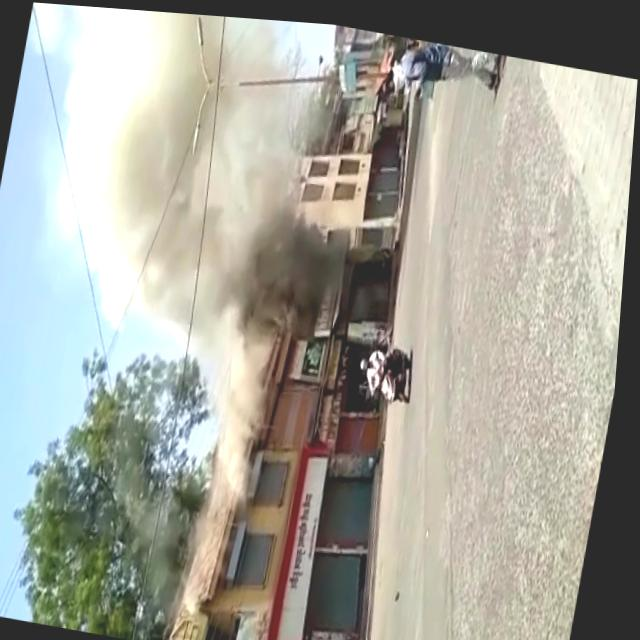no_helmet: (0, 0, 428, 517)
